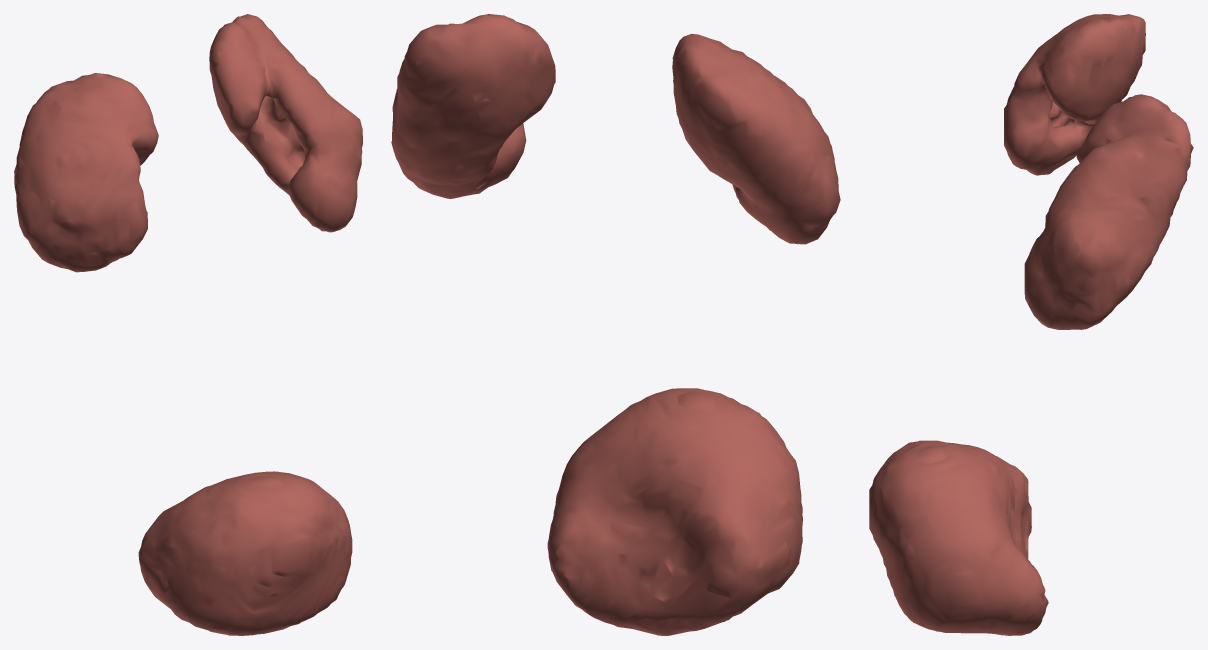
File: tsd_s0196_older_adult_female.urinary.LOD2.glb
The picture shows the model from 3 angles, left to right: view 1: azimuth 30°, elevation 25°; view 2: azimuth 150°, elevation 25°; view 3: azimuth 270°, elevation 25°; orthographic projection. The views are drawn at different scales.
Visible parts, largest first — view 1: TSD_S0196.OLDER_ADULT.FEMALE.URINARY.URINARY_BLADDER, TSD_S0196.OLDER_ADULT.FEMALE.URINARY.KIDNEY.R, TSD_S0196.OLDER_ADULT.FEMALE.URINARY.KIDNEY.L; view 2: TSD_S0196.OLDER_ADULT.FEMALE.URINARY.URINARY_BLADDER, TSD_S0196.OLDER_ADULT.FEMALE.URINARY.KIDNEY.L, TSD_S0196.OLDER_ADULT.FEMALE.URINARY.KIDNEY.R; view 3: TSD_S0196.OLDER_ADULT.FEMALE.URINARY.URINARY_BLADDER, TSD_S0196.OLDER_ADULT.FEMALE.URINARY.KIDNEY.L, TSD_S0196.OLDER_ADULT.FEMALE.URINARY.KIDNEY.R.
Boxes of the visible parts, x1,y1,x2,y2 form: TSD_S0196.OLDER_ADULT.FEMALE.URINARY.URINARY_BLADDER: (138, 471, 352, 635); TSD_S0196.OLDER_ADULT.FEMALE.URINARY.KIDNEY.R: (14, 73, 158, 272); TSD_S0196.OLDER_ADULT.FEMALE.URINARY.KIDNEY.L: (209, 14, 362, 232); TSD_S0196.OLDER_ADULT.FEMALE.URINARY.URINARY_BLADDER: (547, 388, 802, 635); TSD_S0196.OLDER_ADULT.FEMALE.URINARY.KIDNEY.L: (391, 14, 555, 198); TSD_S0196.OLDER_ADULT.FEMALE.URINARY.KIDNEY.R: (672, 34, 840, 244); TSD_S0196.OLDER_ADULT.FEMALE.URINARY.URINARY_BLADDER: (869, 440, 1048, 635); TSD_S0196.OLDER_ADULT.FEMALE.URINARY.KIDNEY.L: (1024, 94, 1193, 329); TSD_S0196.OLDER_ADULT.FEMALE.URINARY.KIDNEY.R: (1004, 14, 1145, 175).
Size of the model in its own units: 0.1832 by 0.2715 by 0.141.
